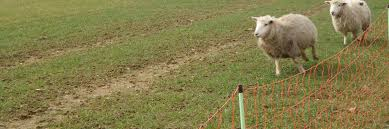sheep: (253, 11, 327, 77), (329, 1, 375, 48)
